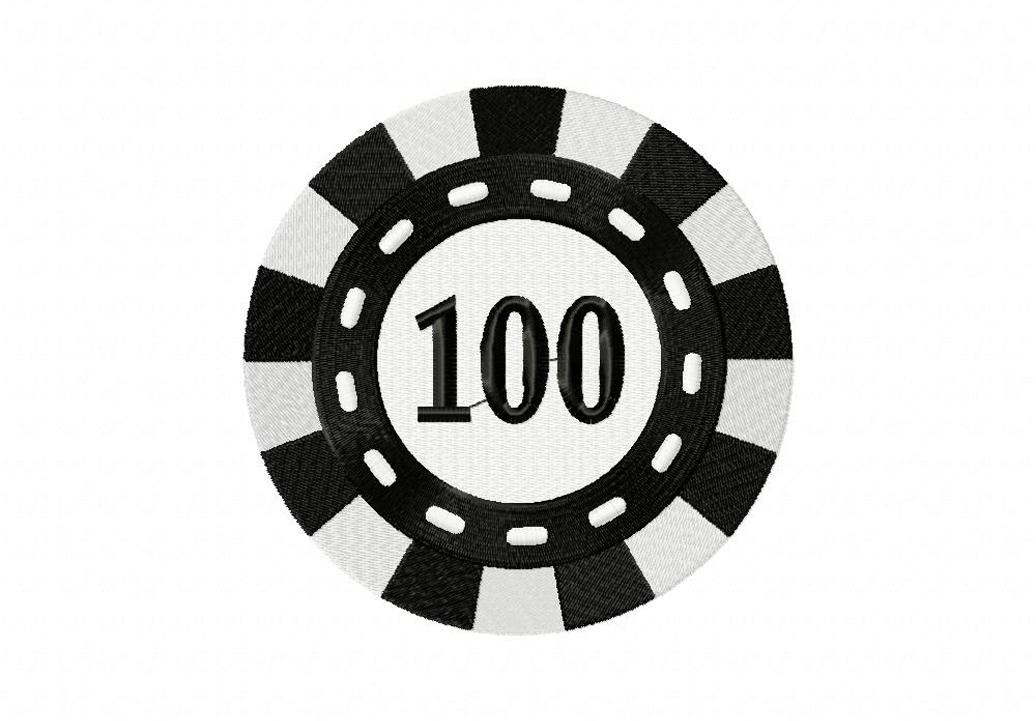chip-black: (245, 87, 793, 633)
